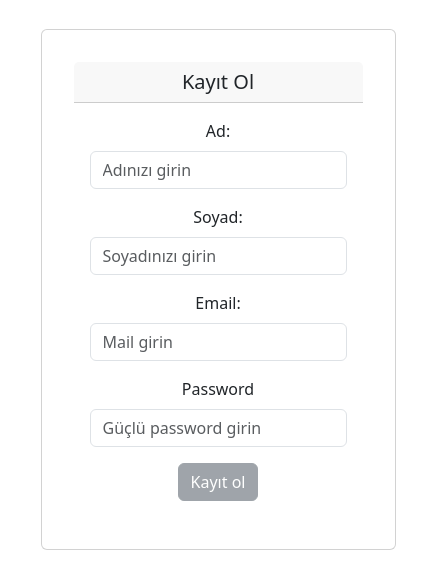
Scenario: Hata mesajları doğru görünüyor mu › Password formu doğru format mı
The width and height of the screenshot is (437, 579).
Type "123456Ff" into the password field with test id "input-password".
click(219, 428); type("123456Ff")  # box [90,409,347,447]
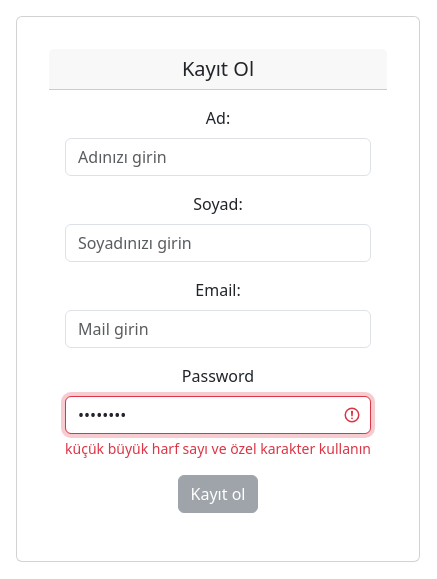
Now the text "küçük büyük harf sayı ve özel karakter kullanın" is shown, box [65,438,371,459]
